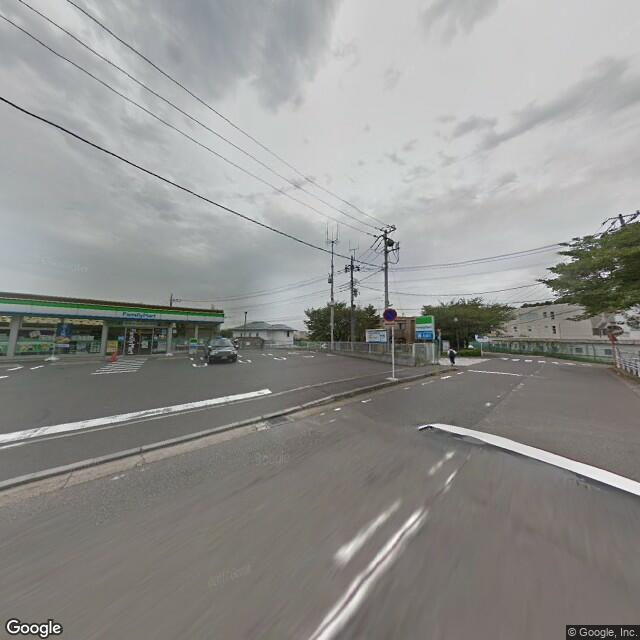family_mart: (1, 298, 223, 325), (411, 314, 435, 340)
